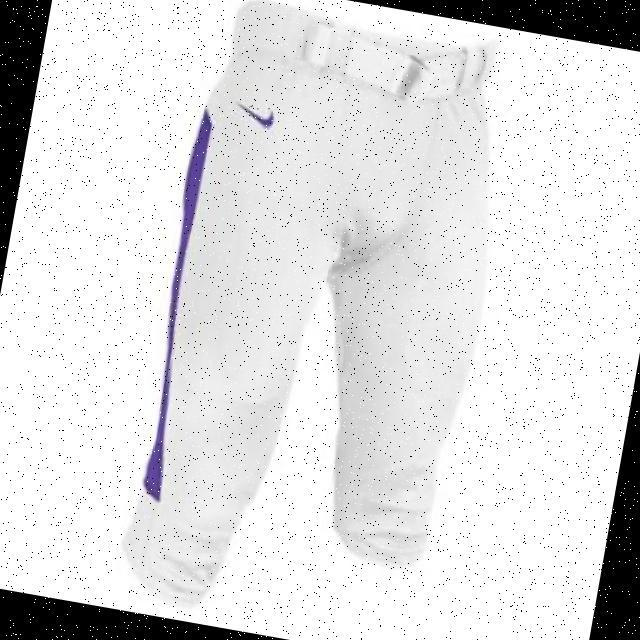Nike: (237, 101, 280, 127)
